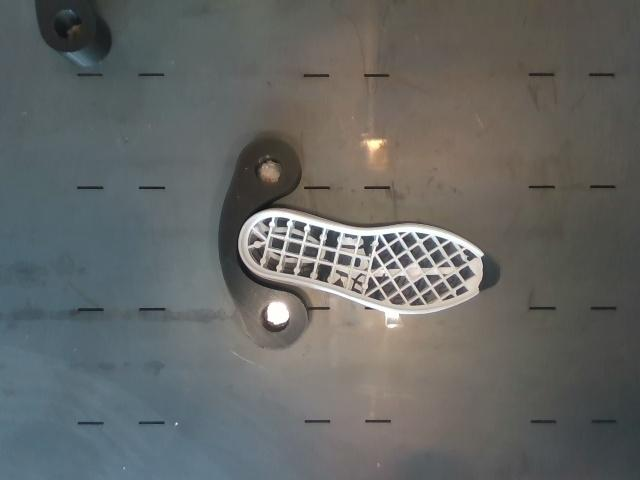shoes: (240, 212, 499, 310)
